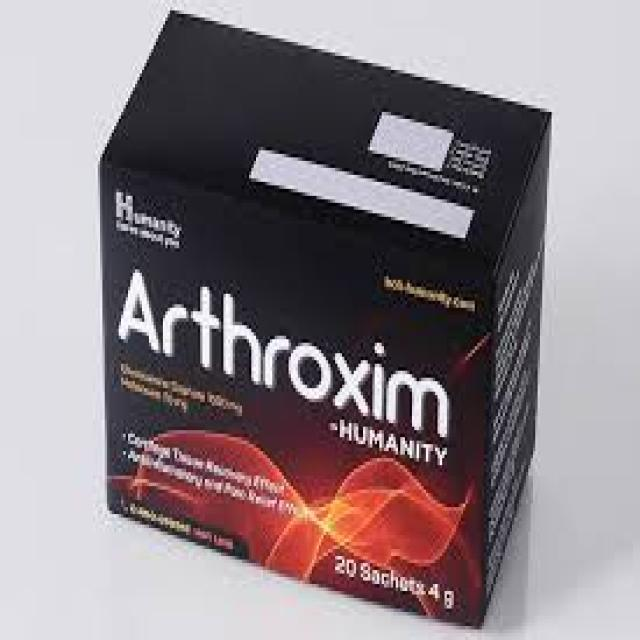cardboard: (96, 4, 552, 626)
